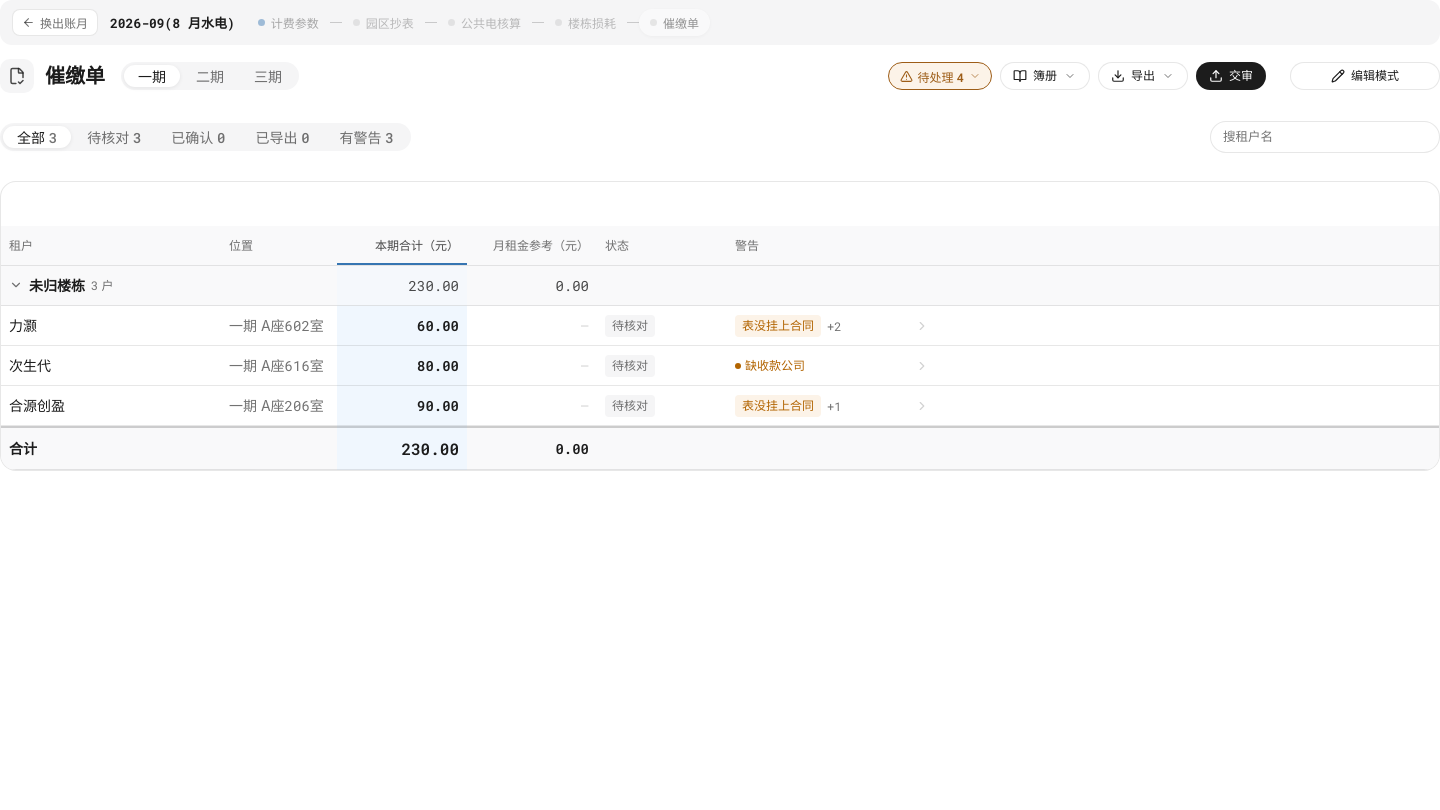
Test: 催缴单抽屉 · 01-C 徽标浮层:明细贴着徽标浮出,正文不动 › 点徽标:.bn-apanel 长在浮层容器里,正文第一块仍是头部三格
Click the row "力灏 一期 A座602室 60.00 – 待核对 表没挂上合同 +2".
click(720, 326)  # box top-left (1, 306), bottom-right (1439, 346)
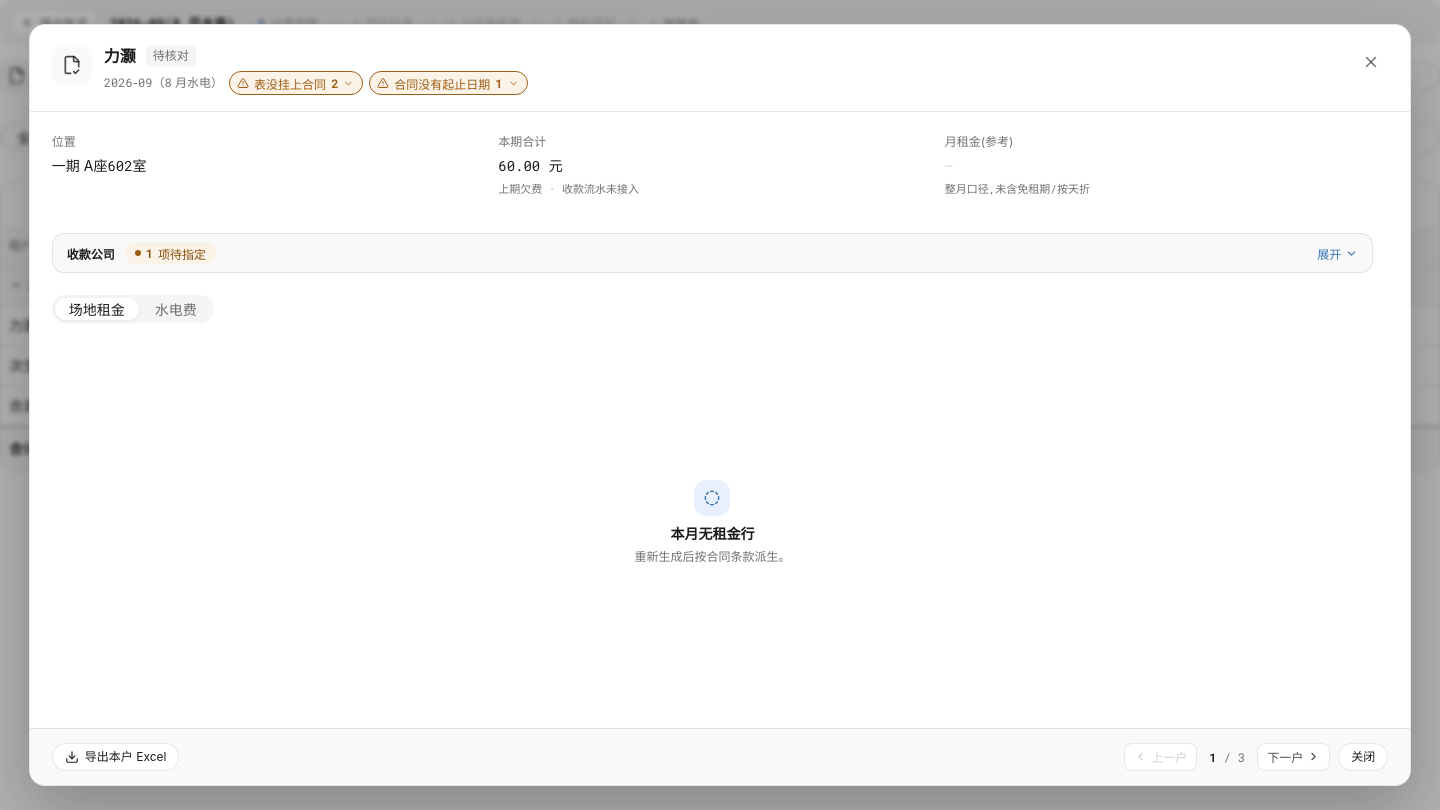
Click the button with class "bn-abadge" showing "表没挂上合同 2".
click(296, 83)  # box top-left (229, 71), bottom-right (363, 95)
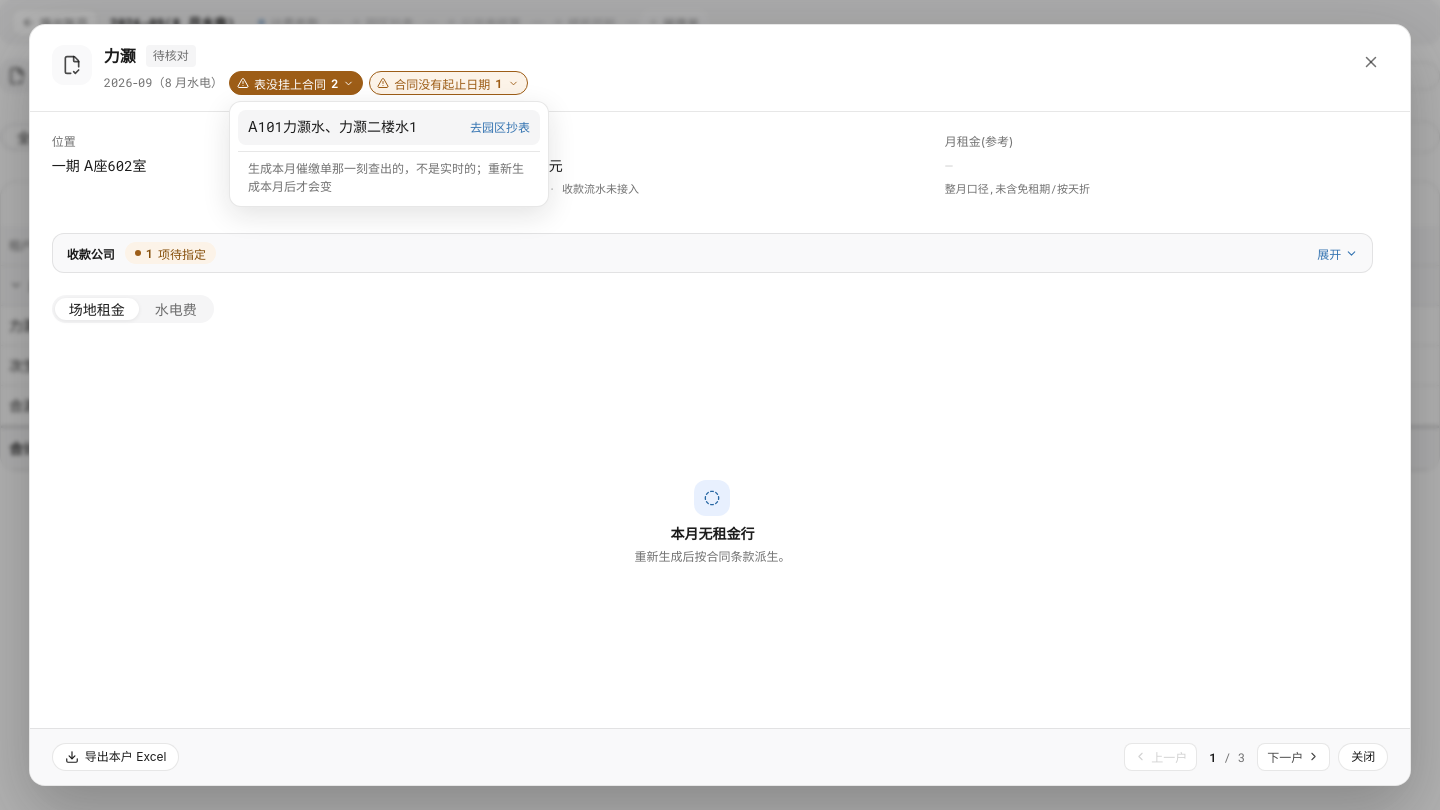
Now the element with class "bn-apanel" is shown, box top-left (238, 110), bottom-right (540, 198)
